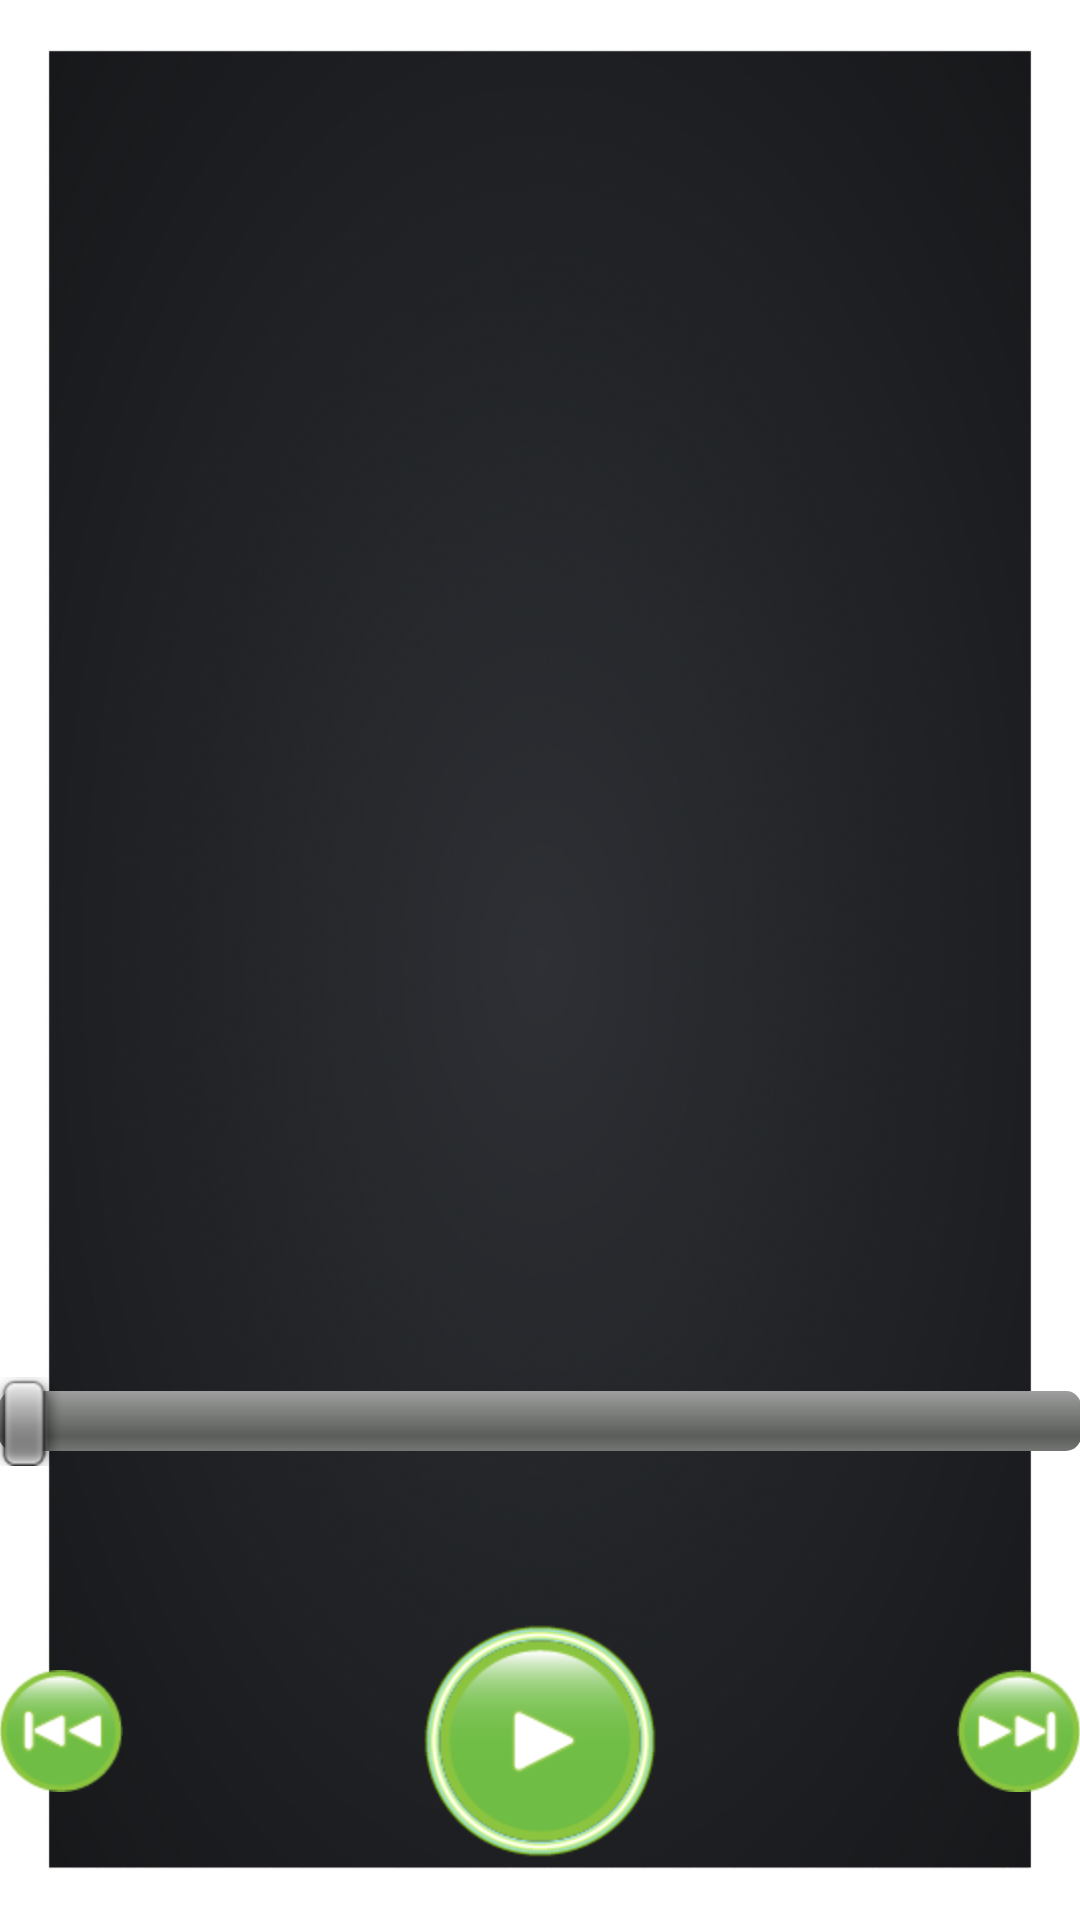

Icons on this 1080x1920 Android screen, each with its box as (x1, y1, x2, y2):
nextbtn: (957, 1670, 1080, 1792)
previousbtn: (0, 1670, 123, 1792)
